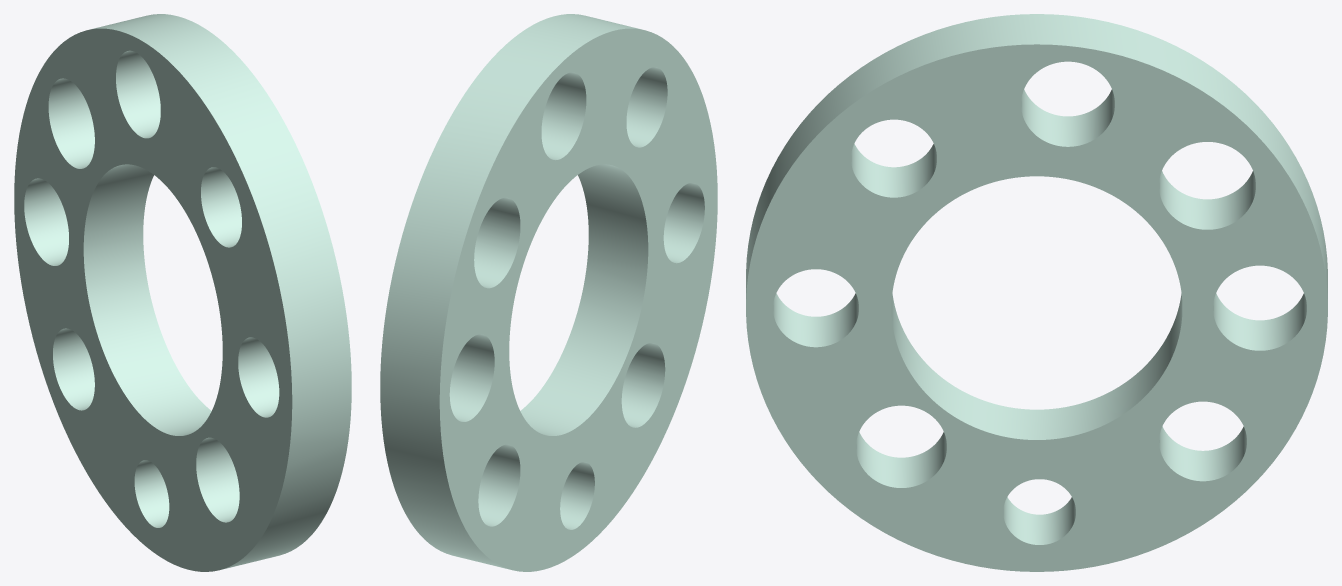
Rendered from expected.gltf.
3 renders of one model, left to right at view 1: azimuth 30°, elevation 25°; view 2: azimuth 150°, elevation 25°; view 3: azimuth 270°, elevation 25°, orthographic. The views are drawn at different scales.
Parts seen in each view (by area): view 1: Renderer Node; view 2: Renderer Node; view 3: Renderer Node.
Boxes of the visible parts, x1=… form: Renderer Node: x1=14, y1=14, x2=351, y2=571; Renderer Node: x1=380, y1=14, x2=717, y2=571; Renderer Node: x1=746, y1=14, x2=1327, y2=571.
Size of the model in its own units: 0.1875 by 1.52 by 1.52.
